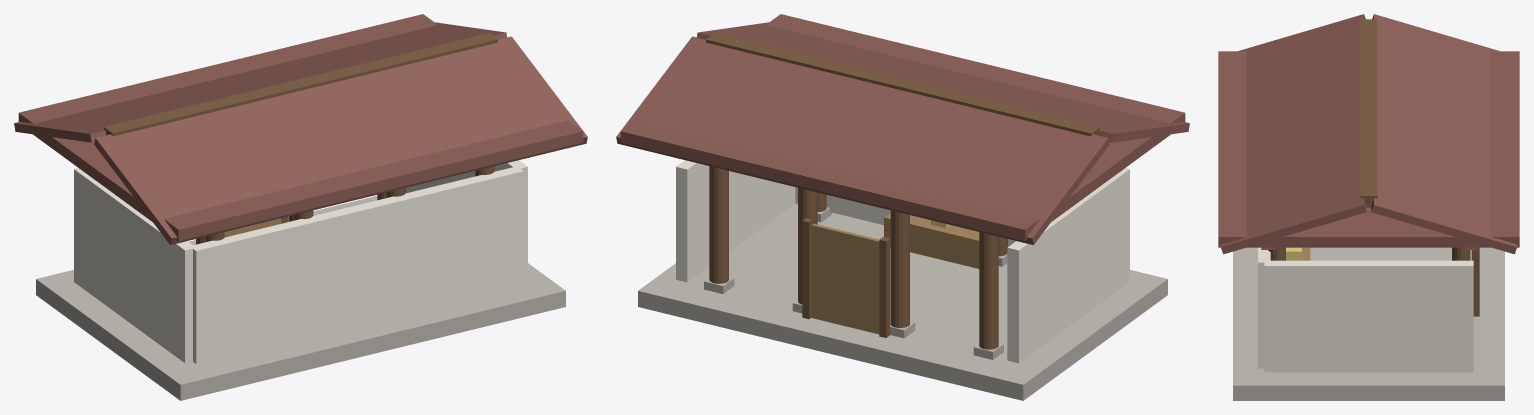
File: main_hall.glb
3 renders of one model, left to right at view 1: azimuth 30°, elevation 25°; view 2: azimuth 150°, elevation 25°; view 3: azimuth 270°, elevation 25°, orthographic. The views are drawn at different scales.
Parts seen in each view (by area): view 1: main_hall; view 2: main_hall; view 3: main_hall.
Boxes of the visible parts, bbox=[...] form: main_hall: bbox=[14, 14, 587, 400]; main_hall: bbox=[616, 14, 1189, 400]; main_hall: bbox=[1218, 14, 1519, 400].
Size of the model in its own units: 10.8 by 5.4 by 7.2.
